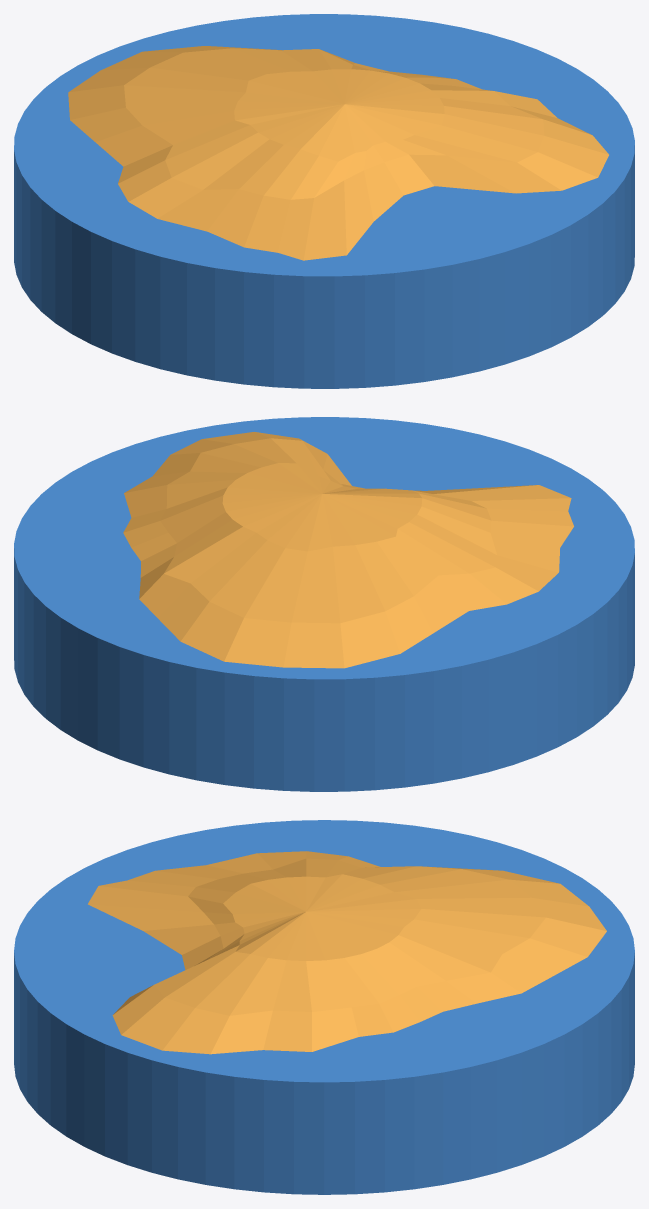
File: Island.fbx
3 views of the same model, one above another, from view 1: azimuth 30°, elevation 25°; view 2: azimuth 150°, elevation 25°; view 3: azimuth 270°, elevation 25° (orthographic).
Visible parts, largest first — view 1: Water_Imprecise, Island; view 2: Water_Imprecise, Island; view 3: Water_Imprecise, Island.
Boxes of the visible parts, <box> form: Water_Imprecise: <box>14,14,634,388</box>; Island: <box>68,46,608,260</box>; Water_Imprecise: <box>14,417,634,791</box>; Island: <box>123,432,573,668</box>; Water_Imprecise: <box>14,820,634,1194</box>; Island: <box>88,851,606,1054</box>.
Size of the model in its own units: 2001 by 560 by 2001.
